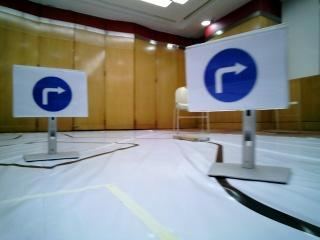right: (188, 45, 282, 102), (19, 69, 86, 114)
